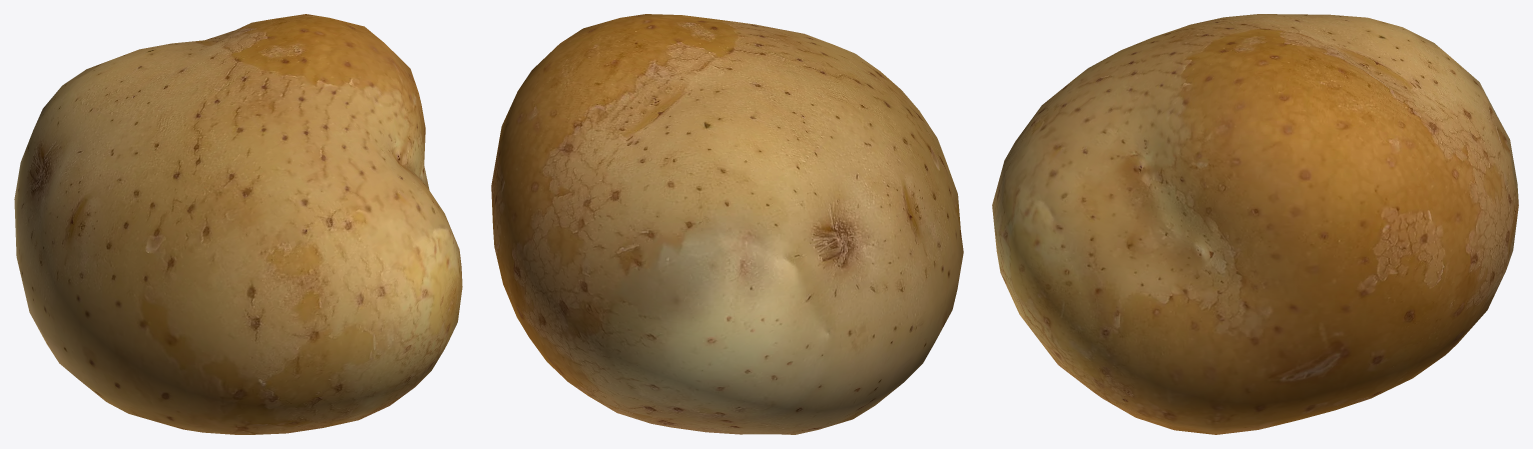
File: realpotato.glb
3 renders of one model, left to right at view 1: azimuth 30°, elevation 25°; view 2: azimuth 150°, elevation 25°; view 3: azimuth 270°, elevation 25°, orthographic. The views are drawn at different scales.
Visible parts, largest first — view 1: Potato; view 2: Potato; view 3: Potato.
Part boxes in pixels (box(x1,y1,x2,y2)): Potato: box(14, 14, 462, 434); Potato: box(491, 14, 963, 434); Potato: box(992, 14, 1518, 434).
Size of the model in its own units: 0.0877 by 0.0764 by 0.1.
1 material, 1 textured.
